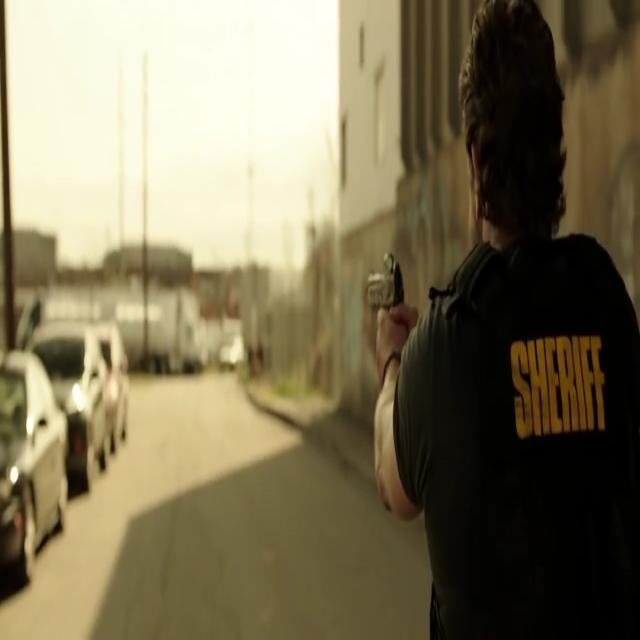Weapon: (356, 252, 421, 343)
